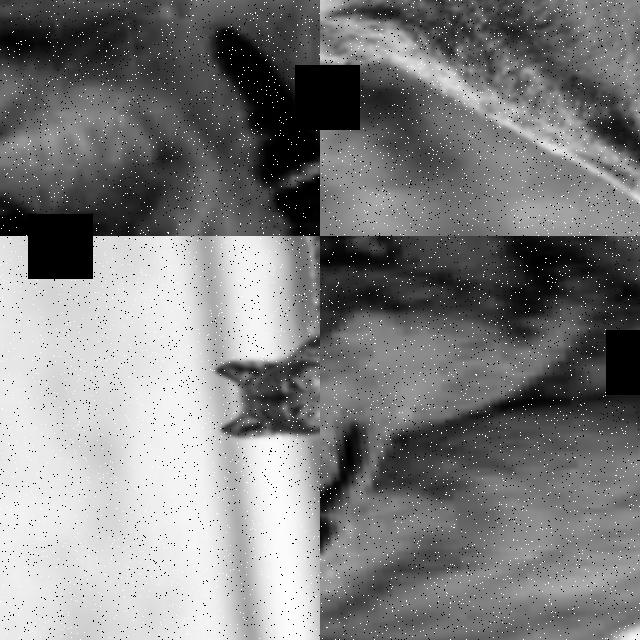dog: (0, 0, 320, 236)
wolf: (320, 300, 640, 640), (320, 236, 640, 554), (320, 0, 640, 236), (164, 236, 320, 478)
